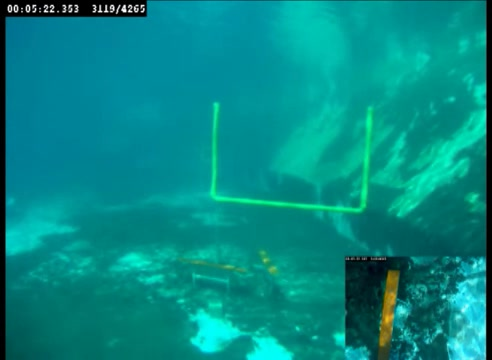channel: (203, 101, 376, 217)
